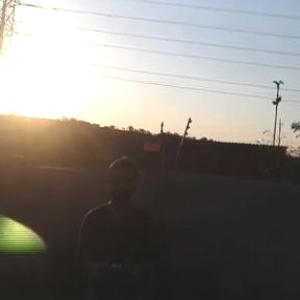follow: (69, 151, 162, 299)
